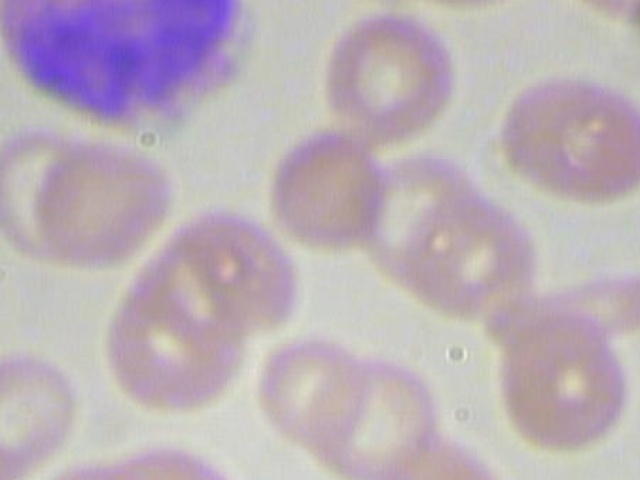RBC: (20, 130, 181, 270), (477, 69, 640, 207), (309, 3, 467, 145), (491, 311, 640, 451), (288, 352, 449, 480), (254, 126, 398, 263), (0, 336, 87, 472), (546, 0, 640, 44)
WBC: (0, 0, 273, 145)
